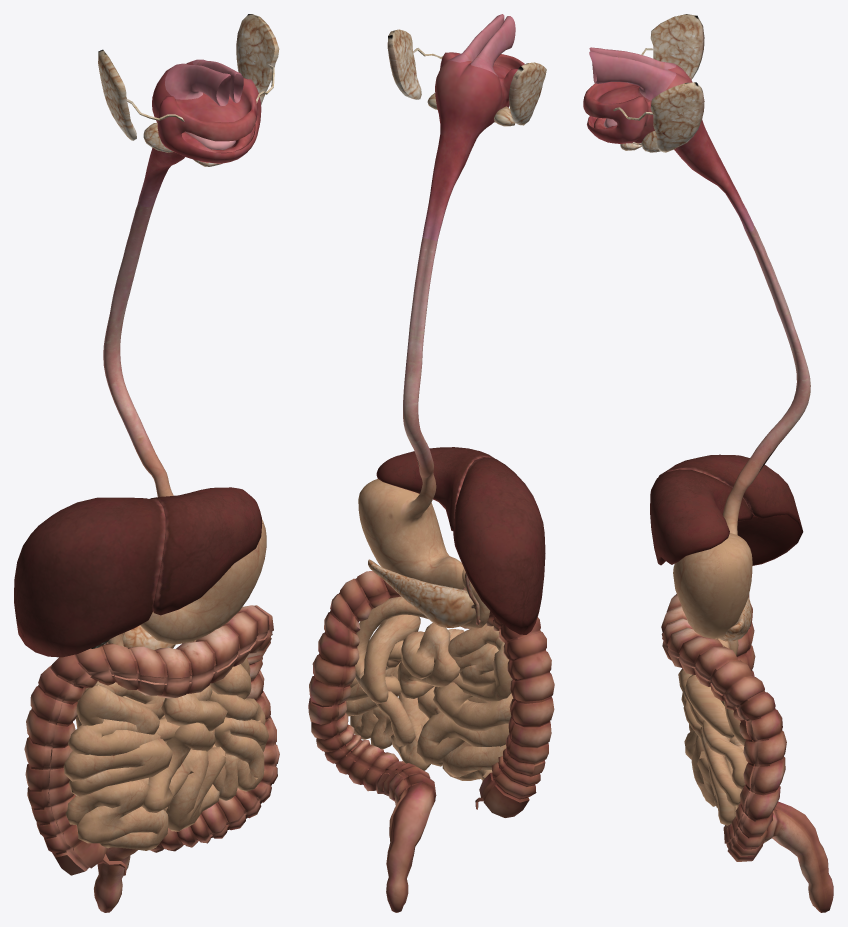
File: digistive_system_textured_standard.fbx
The picture shows the model from 3 angles, left to right: view 1: azimuth 30°, elevation 25°; view 2: azimuth 150°, elevation 25°; view 3: azimuth 270°, elevation 25°; orthographic projection. The views are drawn at different scales.
Visible parts, largest first — view 1: DigestiveSystem; view 2: DigestiveSystem; view 3: DigestiveSystem.
Boxes of the visible parts, x1,y1,x2,y2 form: DigestiveSystem: (14, 14, 279, 912); DigestiveSystem: (308, 14, 554, 912); DigestiveSystem: (583, 14, 833, 912).
Bounding box in the file's own units: 5.75 × 19.38 × 5.09.
Materials: 1 (1 with a texture image).
